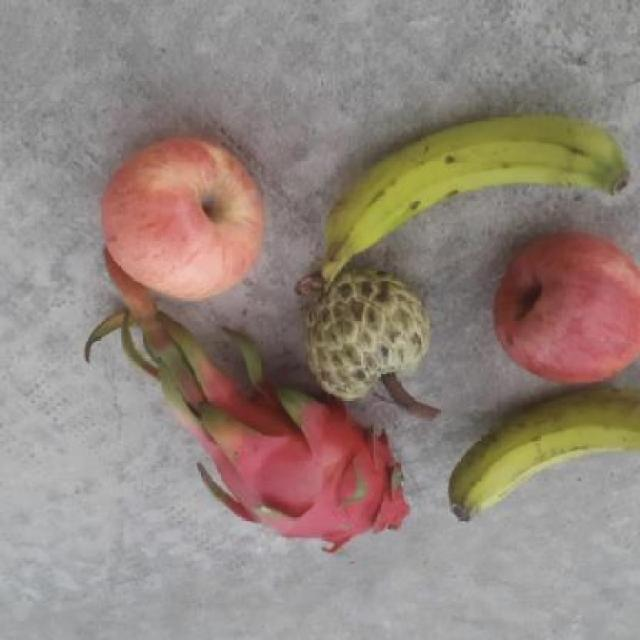apple: (98, 132, 270, 300), (490, 230, 639, 387)
banana: (304, 98, 634, 293), (446, 386, 640, 522)
dragon fruit: (183, 390, 414, 553)
sugar apple: (299, 268, 444, 404)
